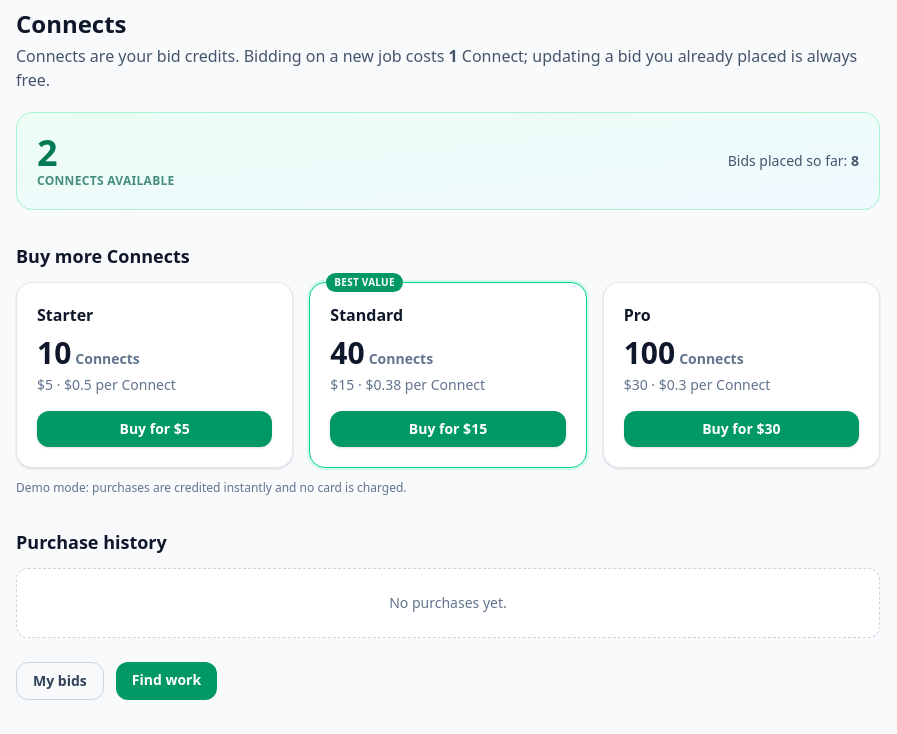
it: BuyConnects › buys a package and refreshes the balance and history
This screenshot has width=897, height=734.
Step 1. Click the button "Buy for $15" → coordinates (448, 429), box [330,411,566,447]
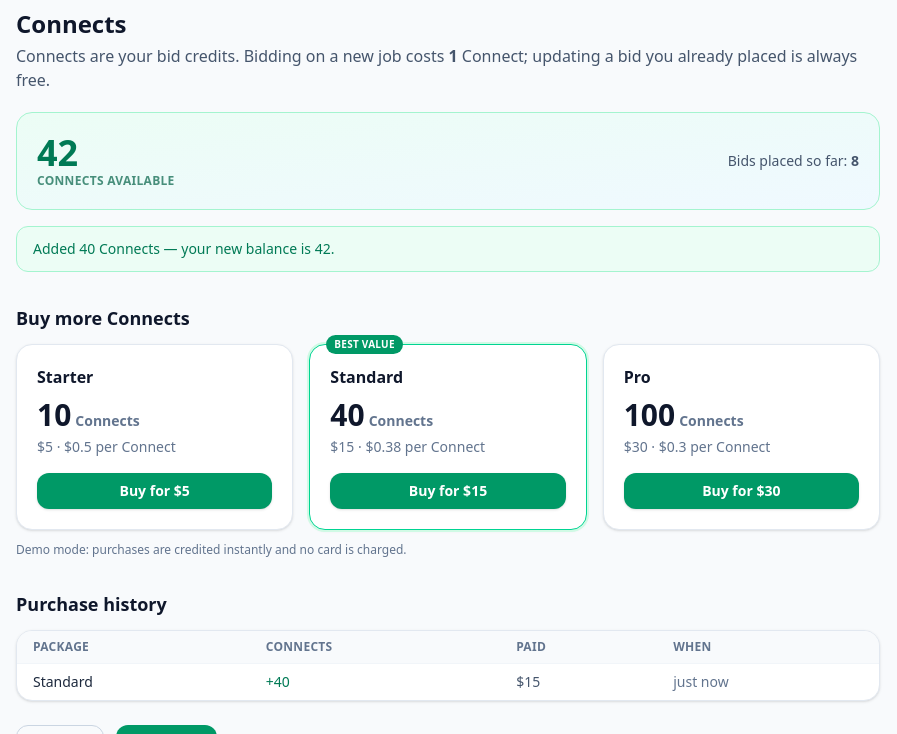
Expected: the text "Added 40 Connects — your new balance is 42." is shown, [16,226,880,272]
Expected: the text with test id "balance" reads "42", [37,128,78,177]
Expected: the text "+40" is shown, [250,664,500,700]
